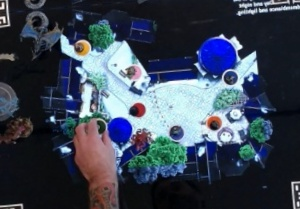blue: (217, 65, 243, 90)
green: (86, 115, 111, 138)
orange: (205, 113, 224, 131)
pink: (124, 62, 143, 82)
red: (128, 100, 148, 119)
violet: (168, 120, 187, 143)
yellow: (72, 36, 95, 60)
